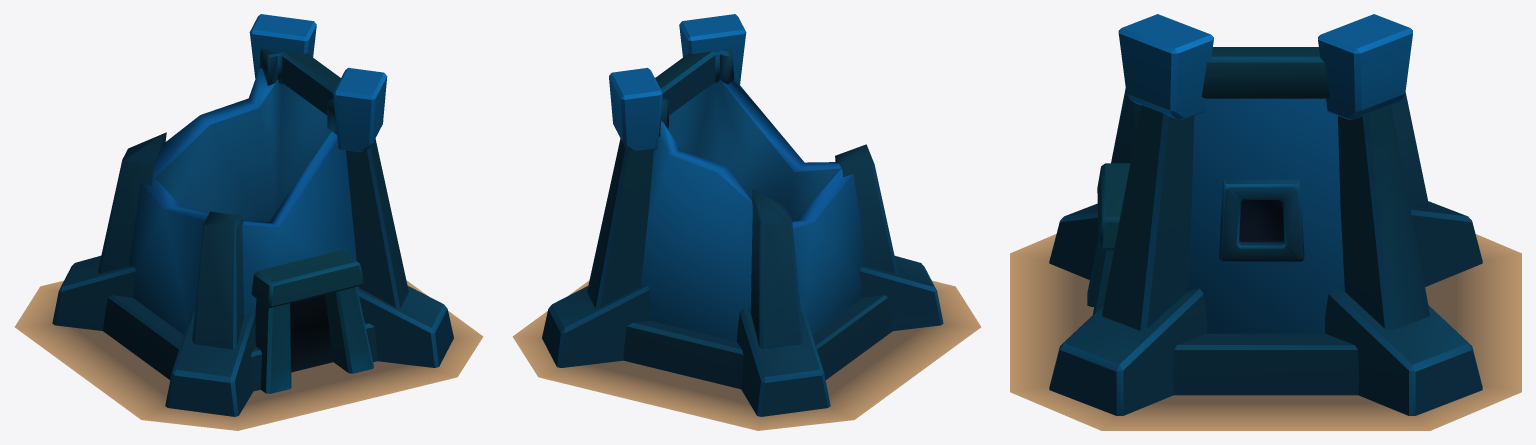
Rendered from Tower_Big.fbx.
3 views of the same model, side by side, from view 1: azimuth 30°, elevation 25°; view 2: azimuth 150°, elevation 25°; view 3: azimuth 270°, elevation 25° (orthographic). The views are drawn at different scales.
Parts seen in each view (by area): view 1: Tower_Big; view 2: Tower_Big; view 3: Tower_Big.
Part boxes in pixels (bbox=[...]): Tower_Big: bbox=[14, 14, 483, 430]; Tower_Big: bbox=[512, 14, 980, 430]; Tower_Big: bbox=[1010, 14, 1521, 430].
Bounding box in the file's own units: 4999 × 3795 × 4999.
